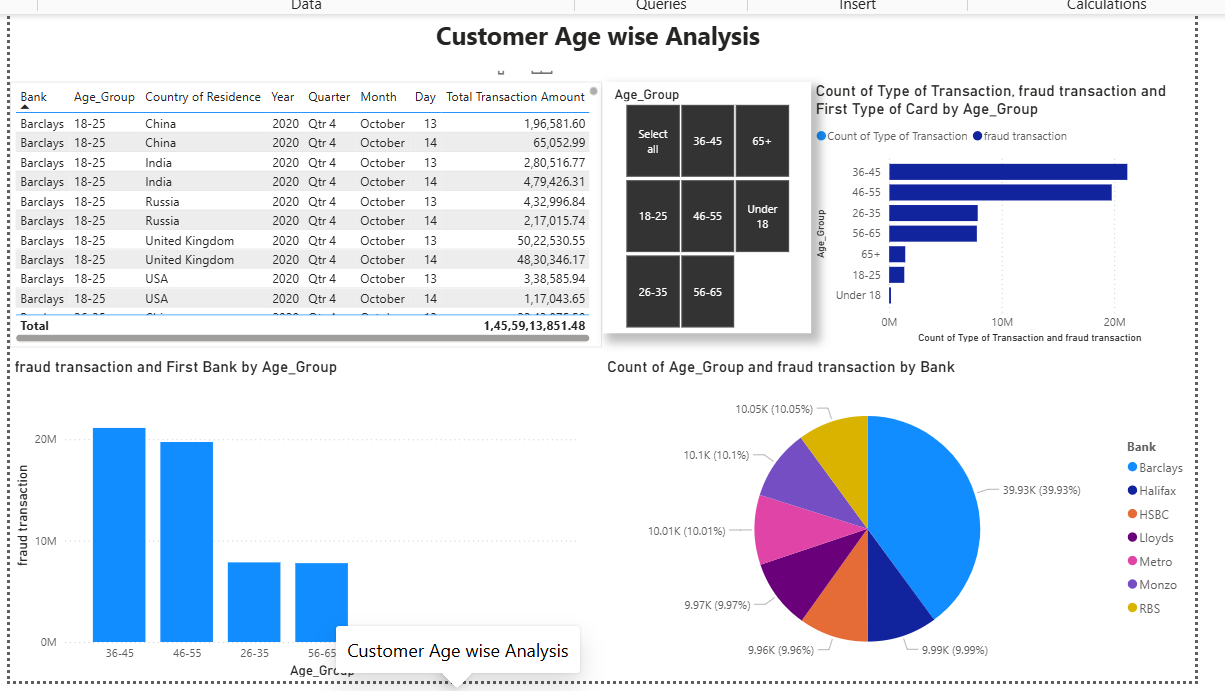

The dashboard page shown, as its layout file describes it:
{"tool":"powerbi","page":{"name":"Customer Age wise Analysis","canvas":[1280,720],"ordinal":1},"visuals":[{"type":"tableEx","fields":{"Values":["CreditCardData_Cleaned.Bank","CreditCardData_Cleaned.Age_Group","CreditCardData_Cleaned.Country of Residence","CreditCardData_Cleaned.Date.Variation.Date Hierarchy.Year","CreditCardData_Cleaned.Date.Variation.Date Hierarchy.Quarter","CreditCardData_Cleaned.Date.Variation.Date Hierarchy.Month","CreditCardData_Cleaned.Date.Variation.Date Hierarchy.Day","CreditCardData_Cleaned.Total Transaction Amount"]},"box":[0,72.9,639.6,286.6],"z":0},{"type":"barChart","fields":{"Category":["CreditCardData_Cleaned.Age_Group"],"Y":["CountNonNull(CreditCardData_Cleaned.Type of Transaction)","CreditCardData_Cleaned.fraud transaction"]},"box":[864.7,72.9,404.8,286.6],"z":1},{"type":"columnChart","fields":{"Category":["CreditCardData_Cleaned.Age_Group"],"Y":["CreditCardData_Cleaned.fraud transaction"]},"box":[0,370.8,618.5,349.8],"z":2},{"type":"pieChart","fields":{"Y":["CountNonNull(CreditCardData_Cleaned.Age_Group)"],"Series":["CreditCardData_Cleaned.Bank"]},"box":[639.6,370.8,641.2,349.8],"z":3},{"type":"slicer","fields":{"Values":["CreditCardData_Cleaned.Age_Group"]},"box":[639.6,72.9,225.1,272],"z":4},{"type":"textbox","box":[0,0,1269.5,61.5],"z":5}]}

Visuals, with their boxes on the page's 1280x720 design canvas (x1, y1, x2, y2). These are canvas units, not pixel positions in the 1225x691 screenshot, which may show the page scaled, cropped or inside an application window:
tableEx - CreditCardData_Cleaned.Bank x CreditCardData_Cleaned.Age_Group: bbox(0, 73, 640, 360)
barChart - CreditCardData_Cleaned.Age_Group x CountNonNull(CreditCardData_Cleaned.Type of Transaction): bbox(865, 73, 1270, 360)
columnChart - CreditCardData_Cleaned.Age_Group x CreditCardData_Cleaned.fraud transaction: bbox(0, 371, 618, 721)
pieChart - CountNonNull(CreditCardData_Cleaned.Age_Group) x CreditCardData_Cleaned.Bank: bbox(640, 371, 1281, 721)
slicer - CreditCardData_Cleaned.Age_Group: bbox(640, 73, 865, 345)
textbox: bbox(0, 0, 1270, 62)
